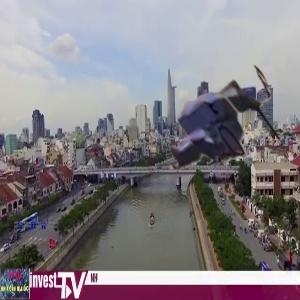drone: (142, 49, 286, 193)
